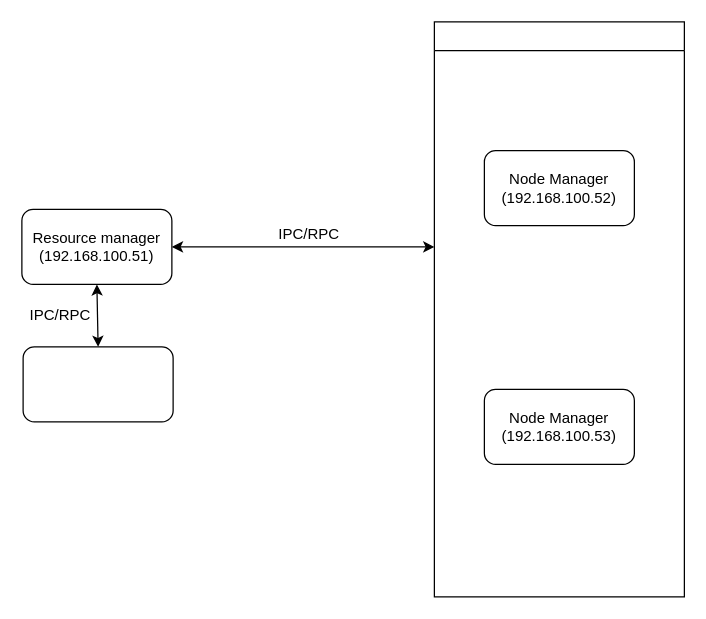
This 706x619 diagram has some shape labels left out. Each missing label, with the box of its shape:
Node manager(s): (433, 21, 684, 597)
YARN Client (192.168.100.100): (22, 346, 173, 422)
